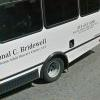Bus: (3, 1, 100, 92)
